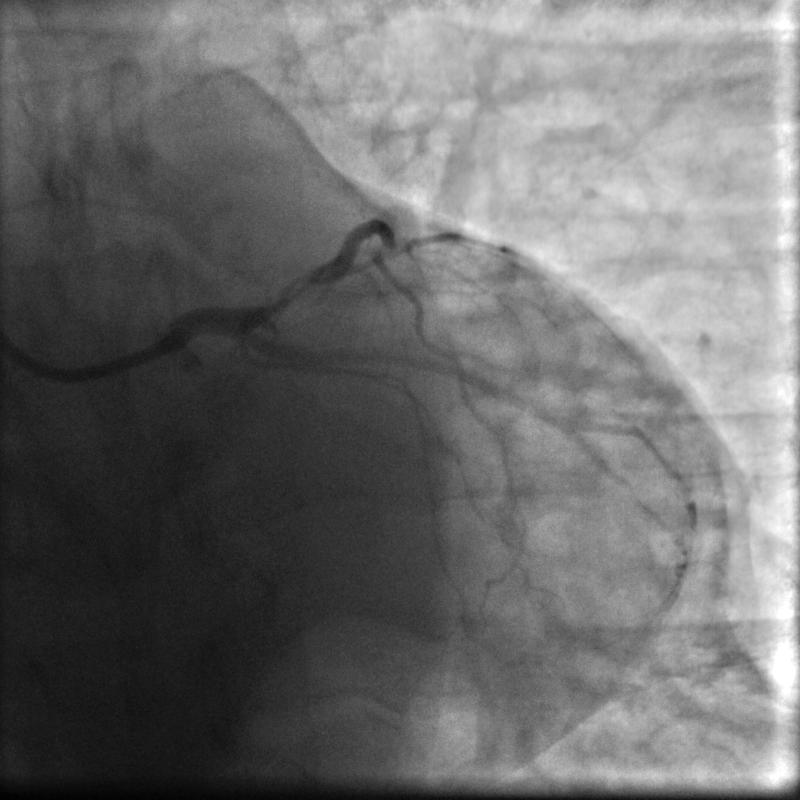Stenosis: (268, 272, 328, 305)
